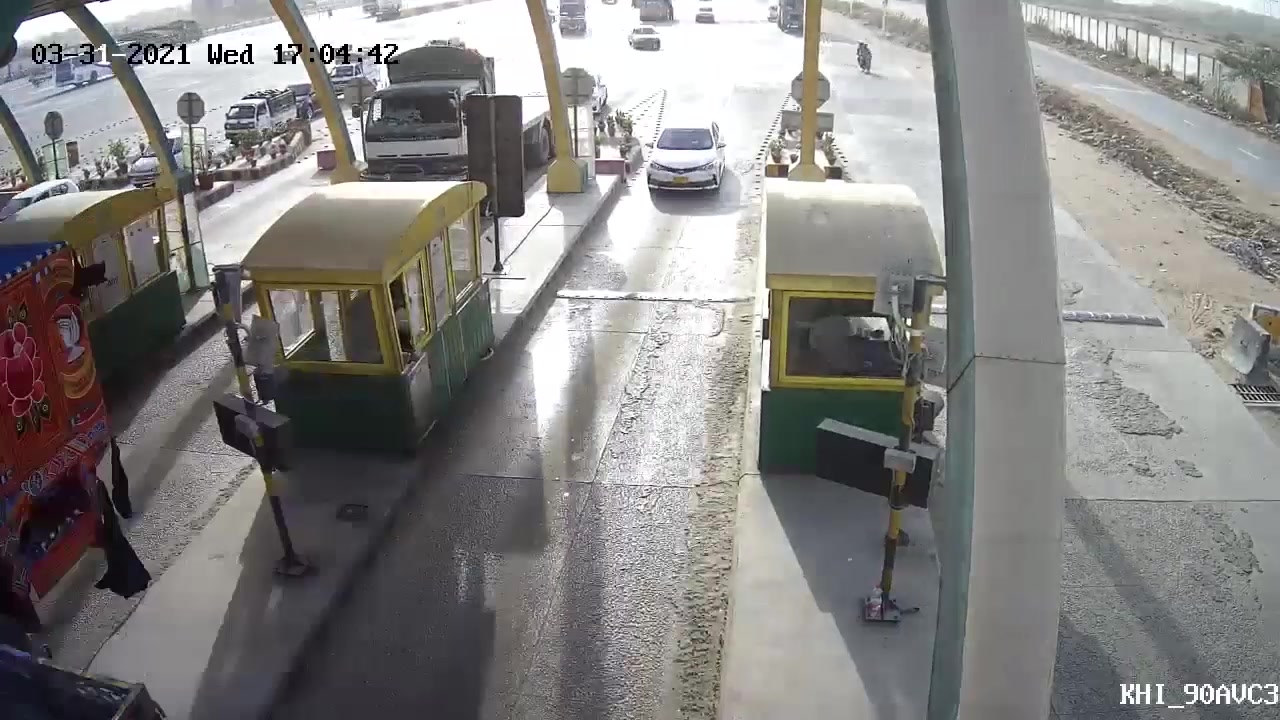F1: (637, 113, 733, 225)
